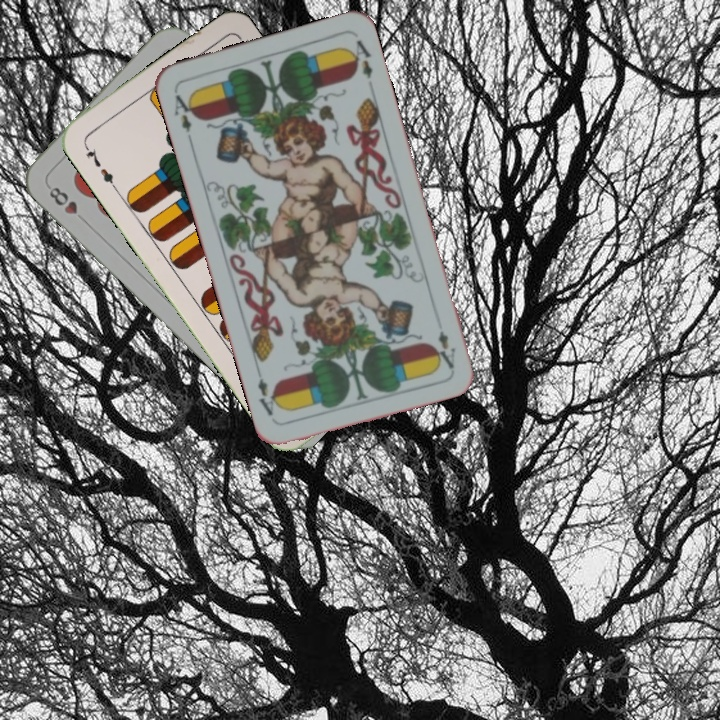E7: (79, 140, 119, 192)
EA: (170, 87, 199, 145), (431, 326, 458, 372)
H8: (45, 183, 81, 217)
